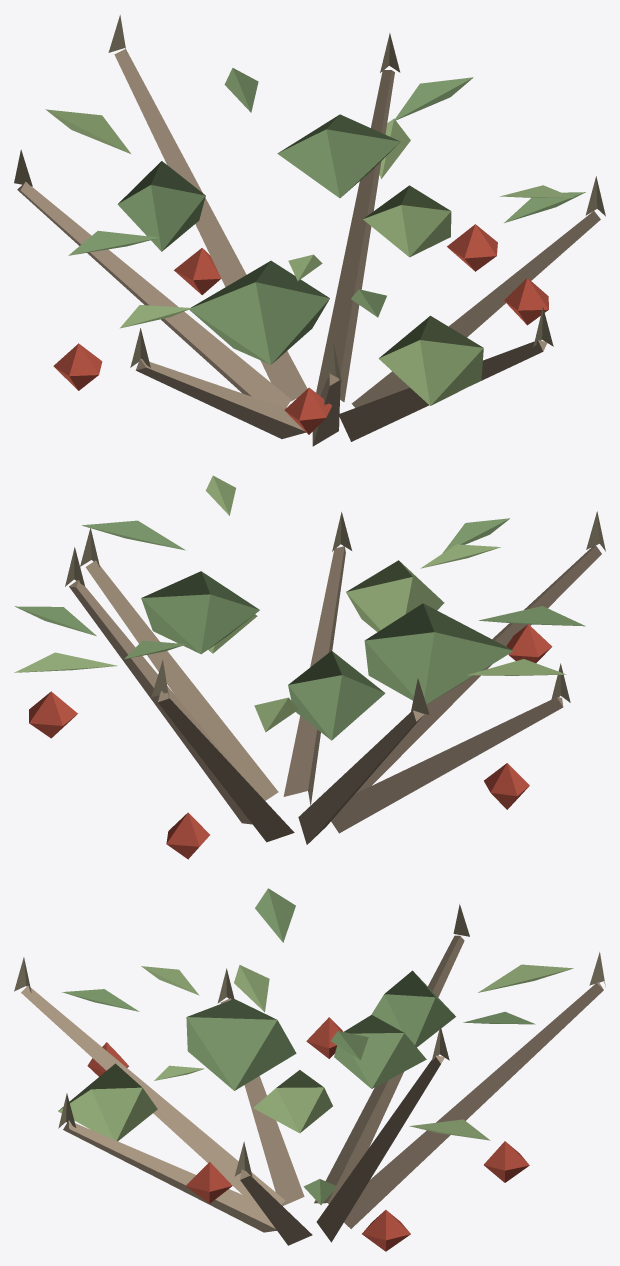
Rendered from guan.xuangouzi@fruiting__summer.glb.
3 renders of one model, top to bottom at view 1: azimuth 30°, elevation 25°; view 2: azimuth 150°, elevation 25°; view 3: azimuth 270°, elevation 25°, orthographic. The views are drawn at different scales.
Visible parts, largest first — view 1: guan.xuangouzi@fruiting__summer; view 2: guan.xuangouzi@fruiting__summer; view 3: guan.xuangouzi@fruiting__summer.
Part boxes in pixels (x1,y1,x2,y2): guan.xuangouzi@fruiting__summer: (14, 15, 605, 446); guan.xuangouzi@fruiting__summer: (14, 475, 605, 859); guan.xuangouzi@fruiting__summer: (14, 888, 605, 1251).
Bounding box in the file's own units: 2.76 × 1.46 × 2.92.
